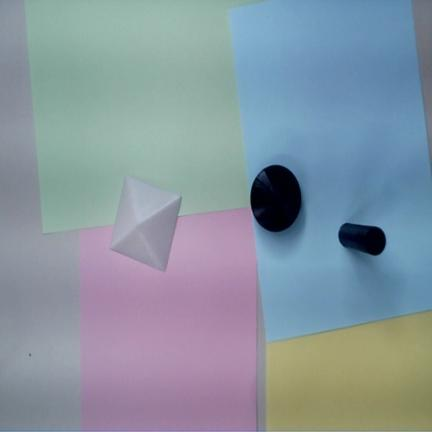Cilindro: (338, 223, 385, 255)
Esfera: (250, 165, 301, 231)
Piramide: (109, 174, 182, 271)
